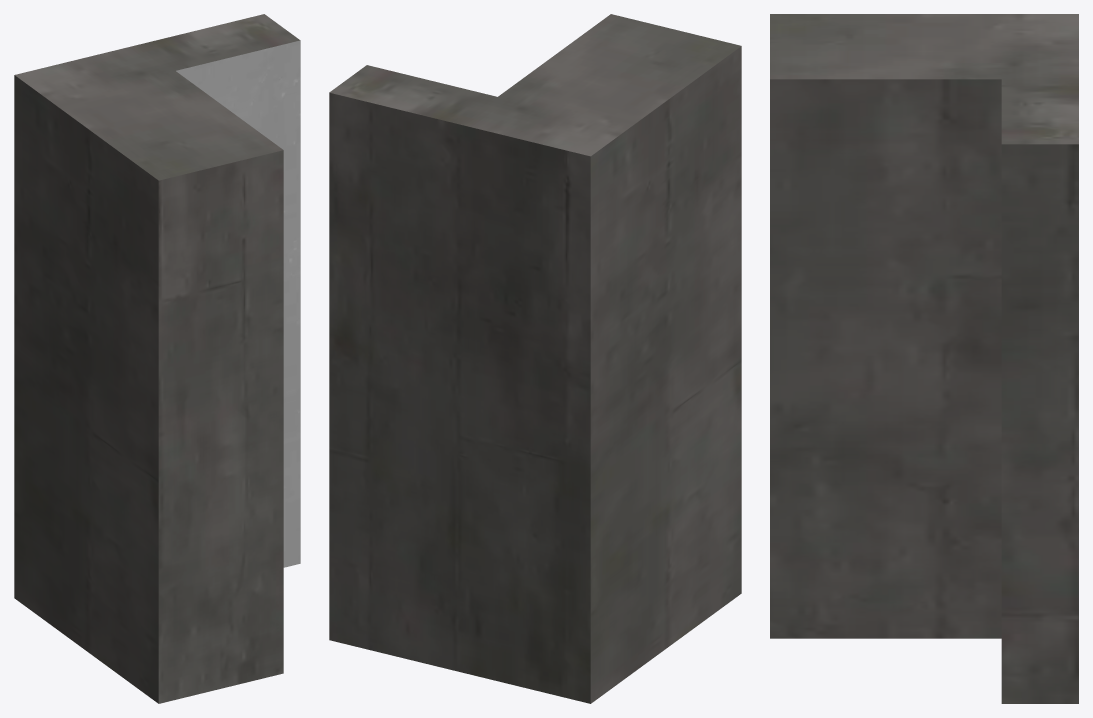
File: flush_wall_100cm.glb
3 views of the same model, side by side, from view 1: azimuth 30°, elevation 25°; view 2: azimuth 150°, elevation 25°; view 3: azimuth 270°, elevation 25° (orthographic). The views are drawn at different scales.
Parts seen in each view (by area): view 1: flush.wall.100cm; view 2: flush.wall.100cm; view 3: flush.wall.100cm.
Boxes of the visible parts, x1=… form: flush.wall.100cm: x1=14, y1=14, x2=300, y2=703; flush.wall.100cm: x1=329, y1=14, x2=741, y2=703; flush.wall.100cm: x1=770, y1=14, x2=1078, y2=703.
Bounding box in the file's own units: 0.5 × 1 × 0.5.
Materials: 2 (2 with a texture image).
